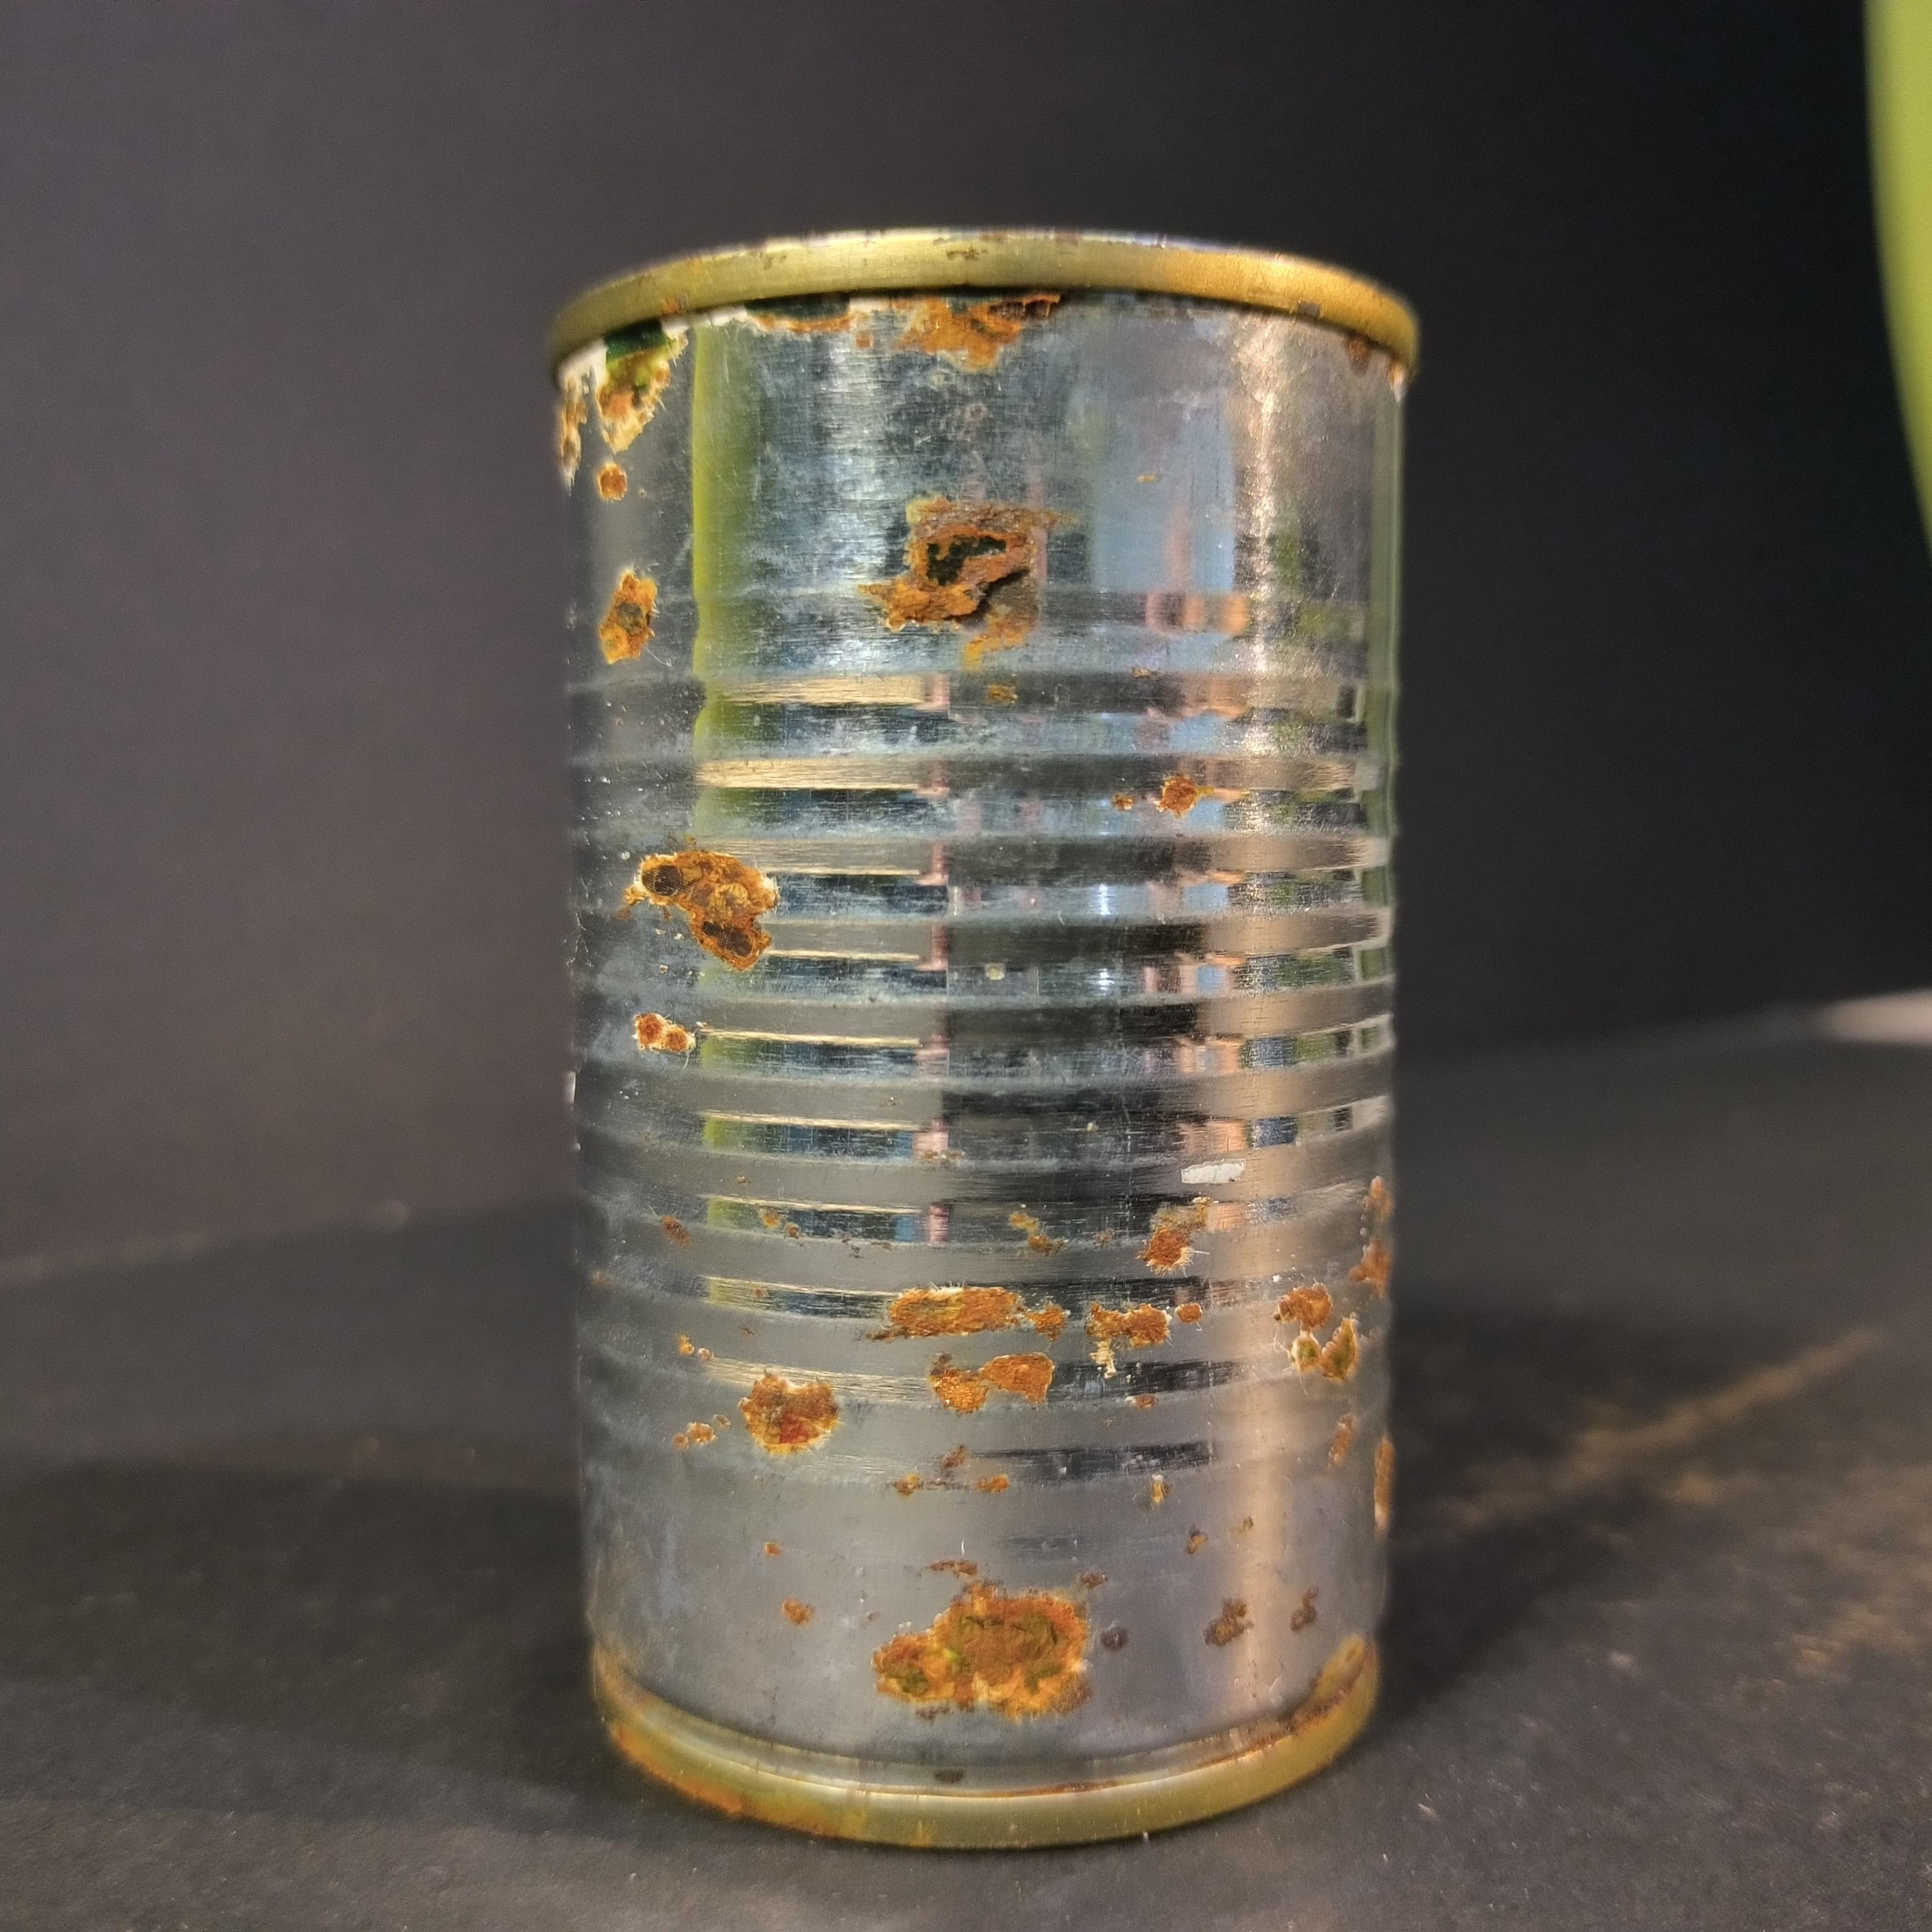Rusted: (504, 203, 1438, 1877)
